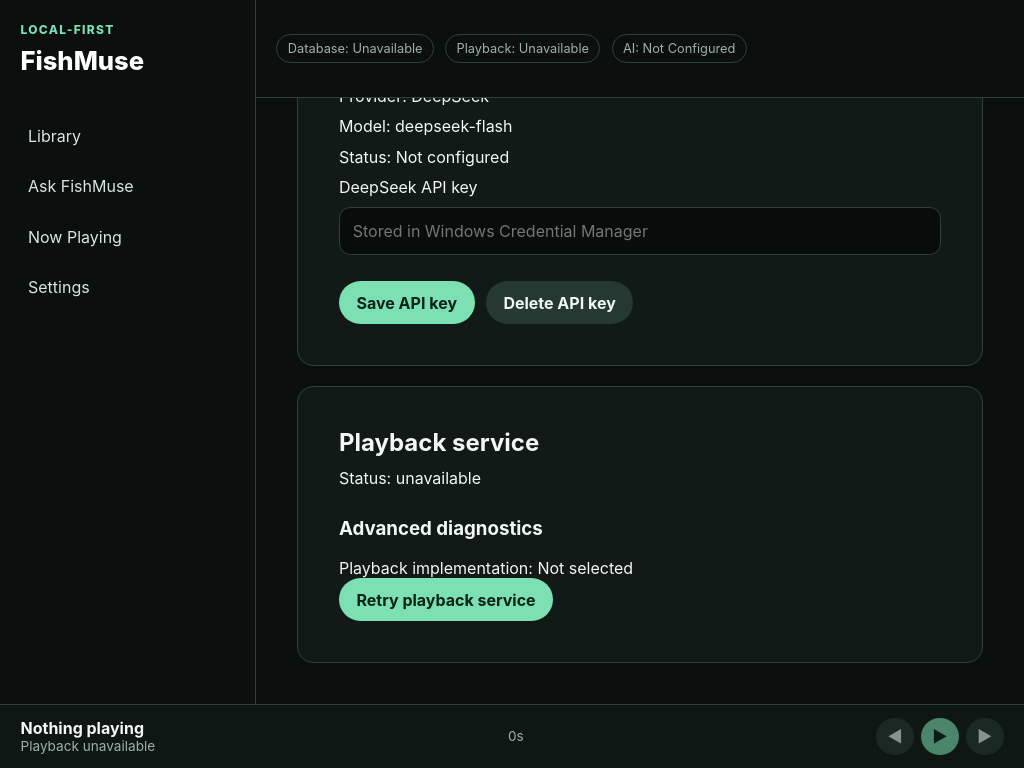
settings › keeps backend retry inside advanced diagnostics
(page scrolled)
Click the button "Retry playback service" at {"x": 446, "y": 600}, box [339,578,553,621]
(page scrolled)
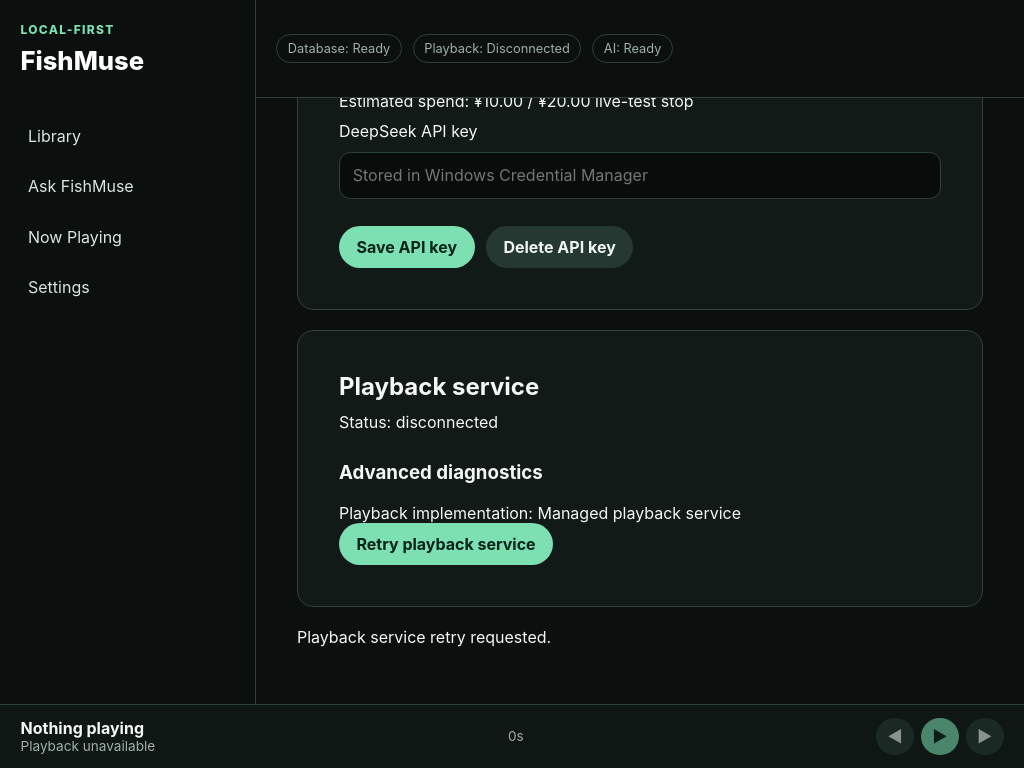
Now the message shows "Playback service retry requested", box [297,627,551,647]
